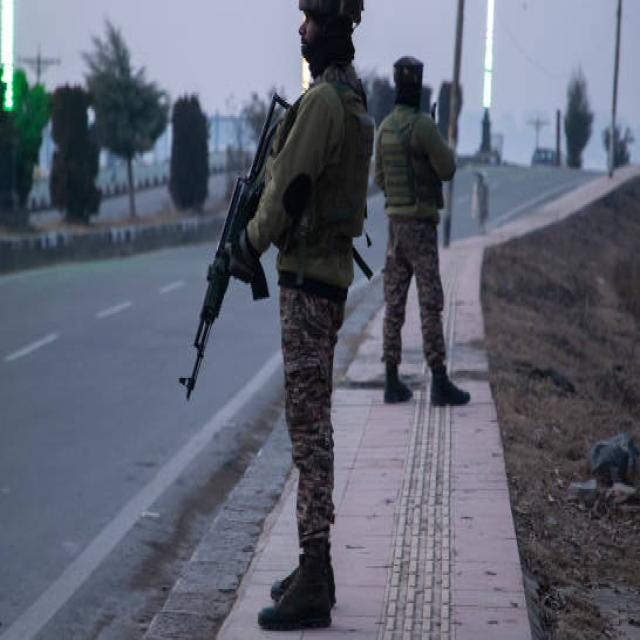soldier: (232, 0, 373, 629), (374, 56, 474, 403)
